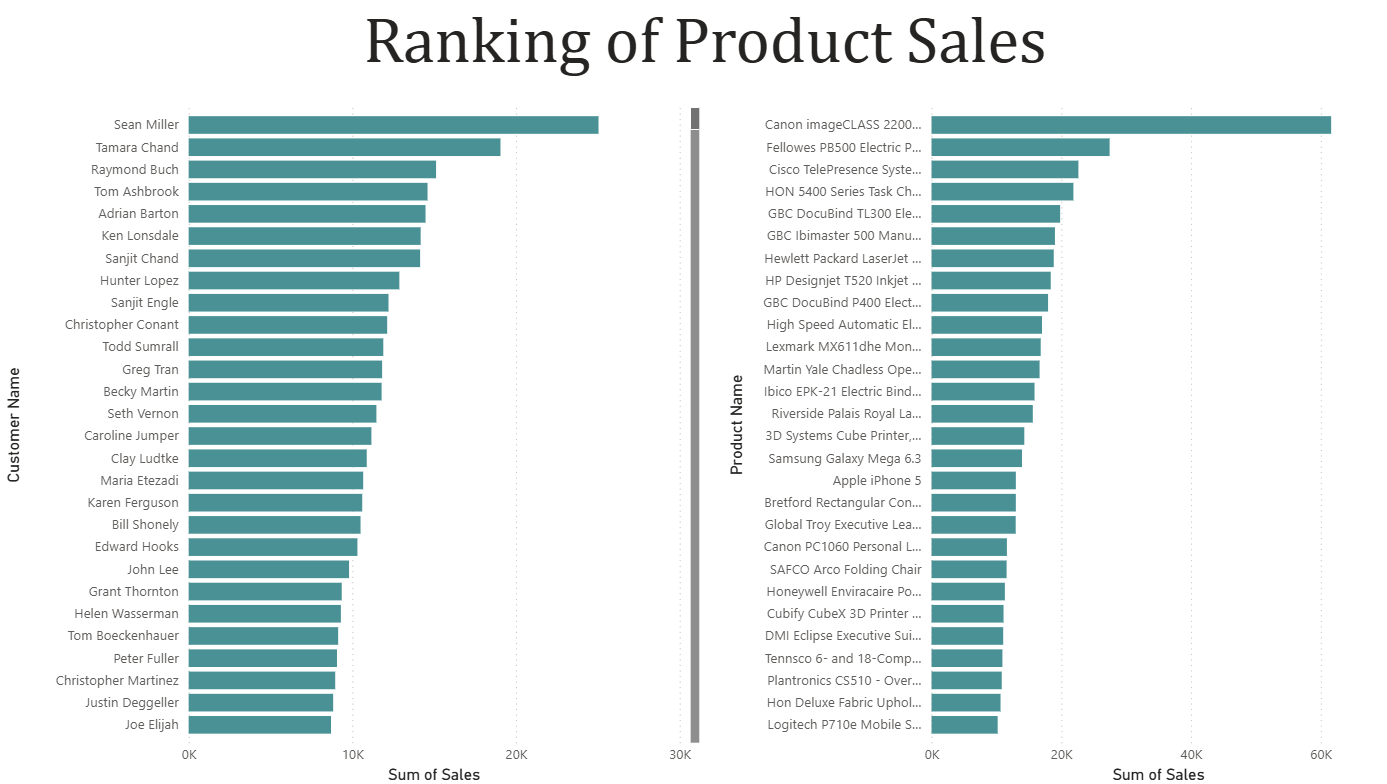

Layout of this report page (visuals, bound fields, positions):
{"tool":"powerbi","page":{"name":"Page 4","canvas":[1280,720],"ordinal":3},"visuals":[{"type":"barChart","fields":{"Y":["Sum(Orders.Sales)"],"Category":["Orders.Customer Name"]},"box":[0,69.8,640.2,650.2],"z":0},{"type":"barChart","fields":{"Category":["Orders.Product Name"],"Y":["Sum(Orders.Sales)"]},"box":[655.6,69.8,624.8,650.2],"z":1000},{"type":"textbox","box":[0,0,1280.4,97.9],"z":2000}]}

Visuals, with their boxes in screenshot pixels (x1, y1, x2, y2), scaled from the page's 1280x720 canvas onto the 1387x784 screenshot:
barChart - Sum(Orders.Sales) x Orders.Customer Name: <region>0, 76, 694, 783</region>
barChart - Orders.Product Name x Sum(Orders.Sales): <region>710, 76, 1386, 783</region>
textbox: <region>0, 0, 1386, 107</region>
